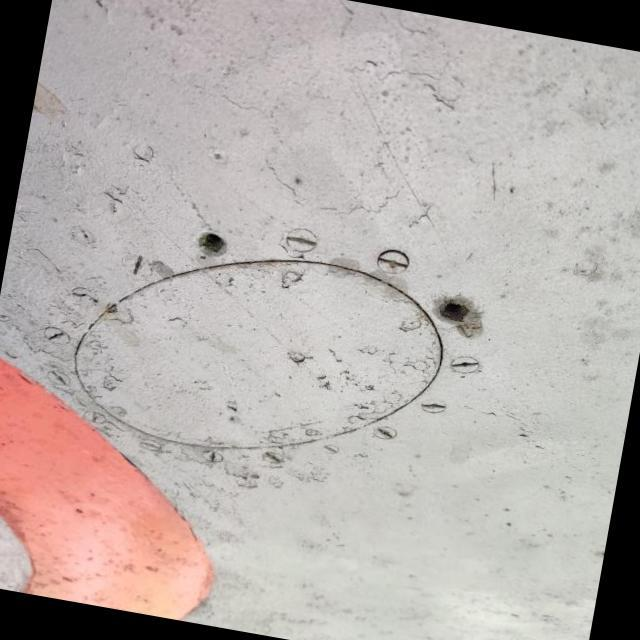Fastener Damage: (414, 269, 500, 352), (172, 206, 254, 286)
